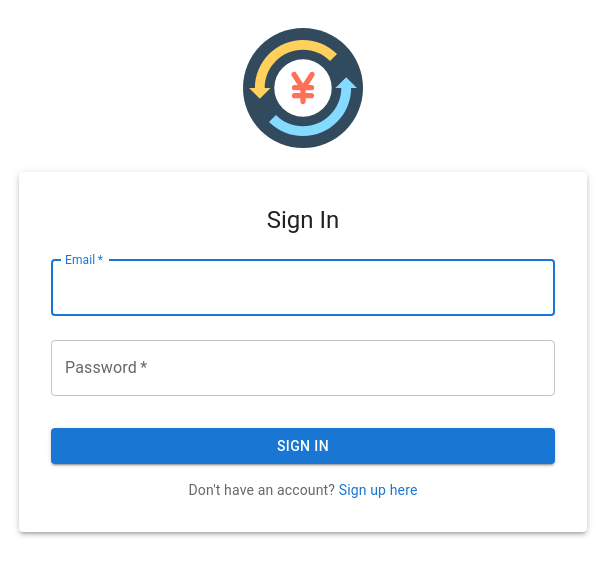
LoginPage › shows validation error for empty password
expect the button "Sign In" is enabled: met, box [51,428,555,464]
In the field labelled "Email *": (303, 288) [51,260,555,316], type "user@example.com"
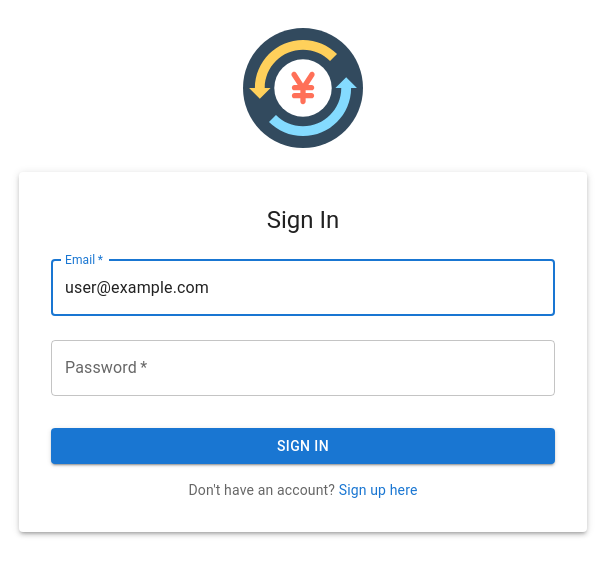
Click the button "Sign In": (303, 446) [51,428,555,464]
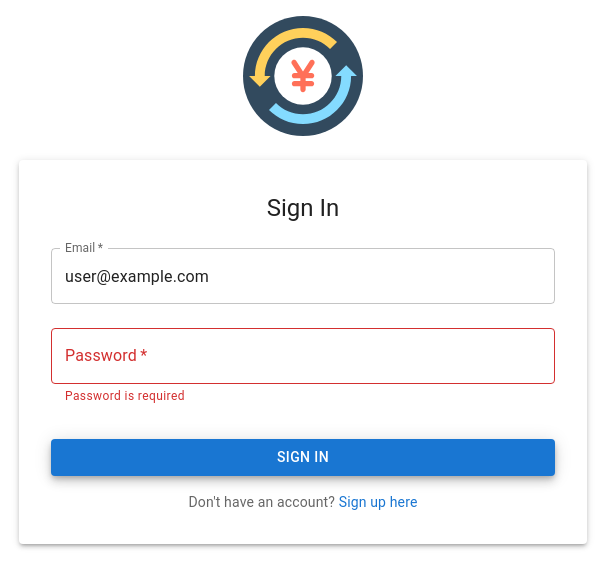
expect the text "Password is required" is shown: met, box [65,390,185,404]
